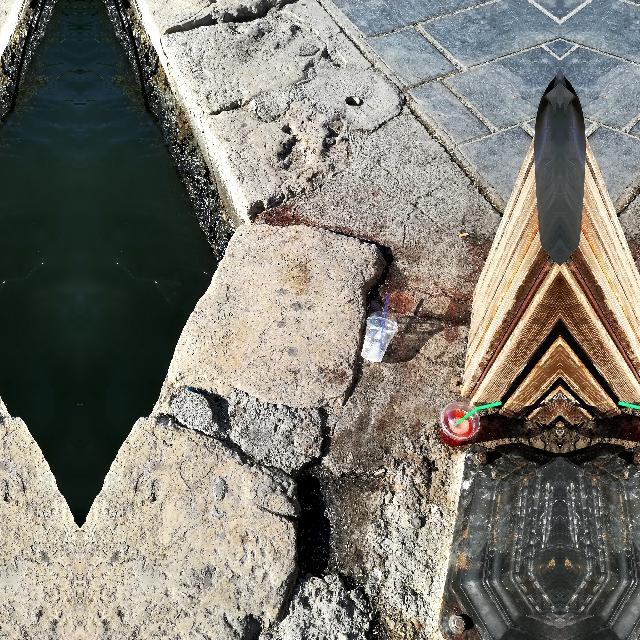Plastic: (432, 398, 508, 448), (356, 290, 400, 366), (612, 398, 640, 448)
